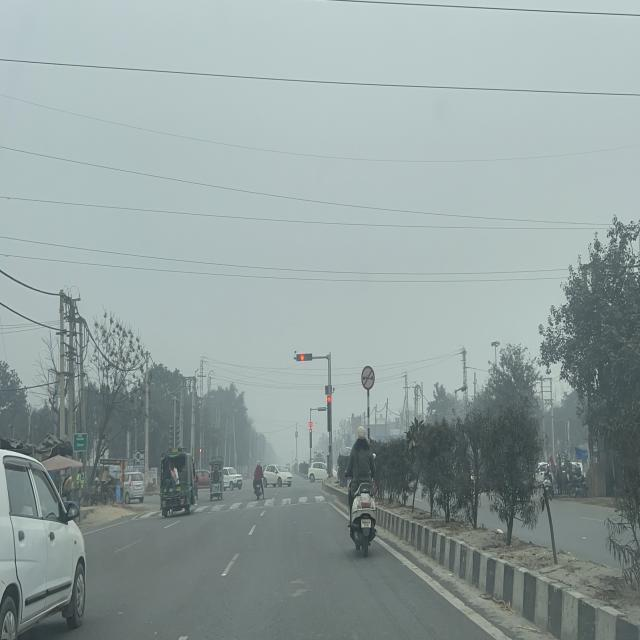GENERAL: (73, 434, 87, 452)
HORN_PROHIBITED: (361, 366, 375, 390)
